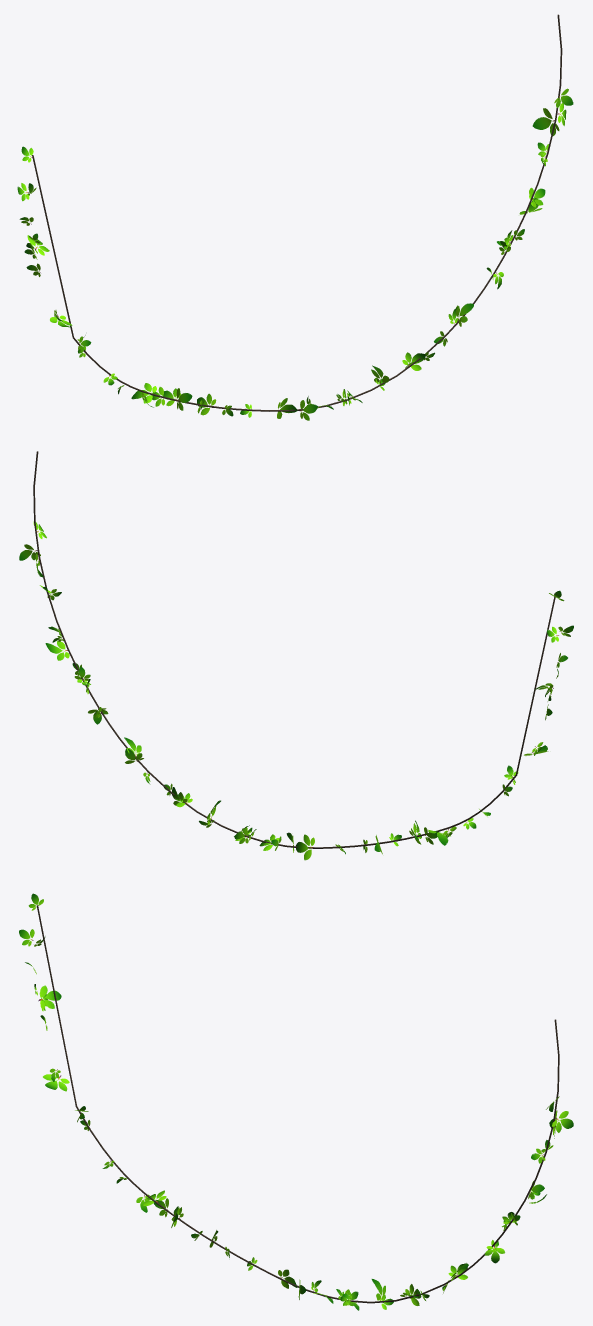
File: Ivy_bend.fbx
The picture shows the model from 3 angles, top to bottom: view 1: azimuth 30°, elevation 25°; view 2: azimuth 150°, elevation 25°; view 3: azimuth 330°, elevation 25°; orthographic projection.
Visible parts, largest first — view 1: Line002; view 2: Line002; view 3: Line002.
Boxes of the visible parts, x1,y1,x2,y2 form: Line002: (17,14,573,420); Line002: (19,451,573,860); Line002: (19,893,573,1310).
Size of the model in its own units: 345 by 204 by 30.77.
